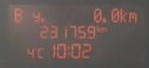-: (101, 16, 106, 22), (40, 17, 44, 22)
0: (70, 43, 80, 58), (56, 42, 65, 58), (92, 7, 101, 23), (110, 7, 119, 22)
1: (51, 43, 55, 58), (63, 25, 67, 38)
2: (80, 42, 91, 58), (38, 24, 47, 38)
3: (49, 24, 57, 38)
4: (26, 47, 33, 58)
5: (77, 24, 85, 38)
7: (68, 24, 76, 37)
9: (86, 24, 95, 38)
X: (13, 7, 23, 23), (127, 10, 137, 22), (119, 7, 126, 23), (31, 11, 40, 22), (36, 46, 44, 58), (66, 45, 69, 55)
